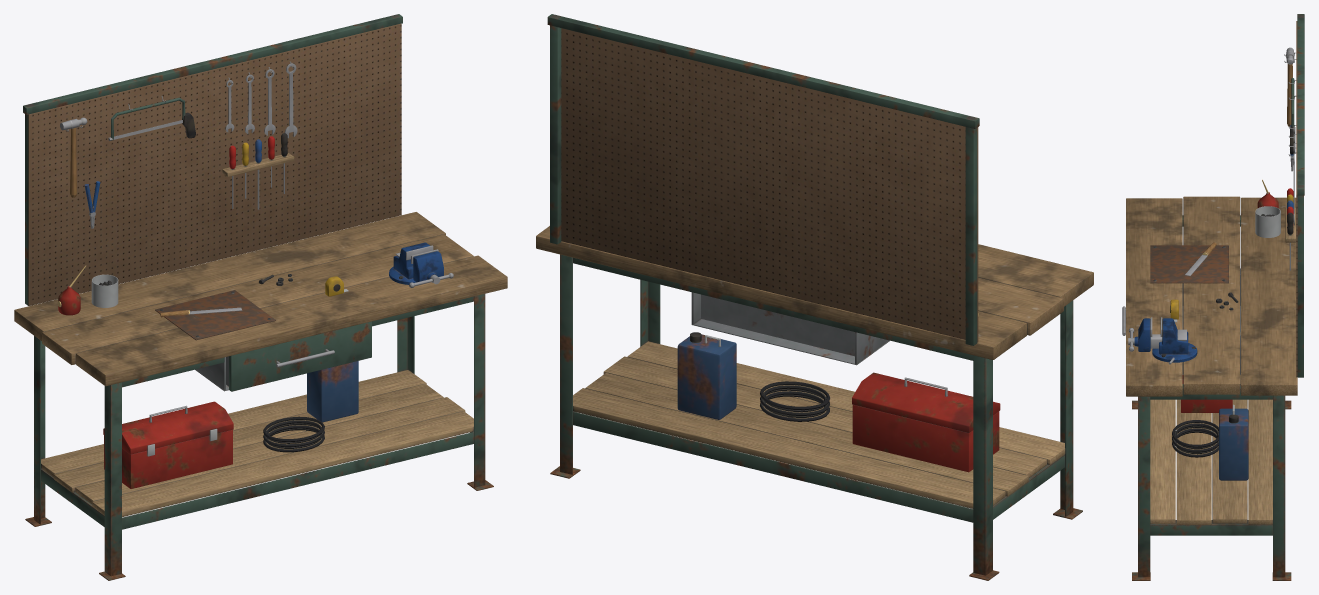
Rendered from bancada_trabalho.glb.
The picture shows the model from 3 angles, left to right: view 1: azimuth 30°, elevation 25°; view 2: azimuth 150°, elevation 25°; view 3: azimuth 270°, elevation 25°; orthographic projection. The views are drawn at different scales.
Parts seen in each view (by area): view 1: painel, estrutura, tampo, prateleira, ferramentas, gaveta, morsa; view 2: painel, estrutura, prateleira, tampo, gaveta; view 3: tampo, estrutura, morsa, prateleira, ferramentas, painel, gaveta.
Part boxes in pixels (box(x1,y1,x2,y2)): painel: box(28, 23, 401, 305); estrutura: box(23, 14, 493, 580); tampo: box(14, 212, 507, 386); prateleira: box(103, 361, 358, 488); ferramentas: box(57, 61, 348, 317); gaveta: box(226, 321, 371, 391); morsa: box(155, 242, 453, 340); painel: box(561, 28, 978, 342); estrutura: box(547, 14, 1082, 580); prateleira: box(677, 332, 1000, 472); tampo: box(536, 226, 1093, 359); gaveta: box(701, 294, 854, 356); tampo: box(1126, 196, 1297, 396); estrutura: box(1132, 14, 1304, 580); morsa: box(1128, 245, 1228, 364); prateleira: box(1172, 375, 1248, 480); ferramentas: box(1170, 47, 1296, 322); painel: box(1296, 21, 1297, 377); gaveta: box(1122, 274, 1240, 335).
Size of the model in its own units: 1.82 by 1.75 by 0.741.
3 materials, 3 textured.
